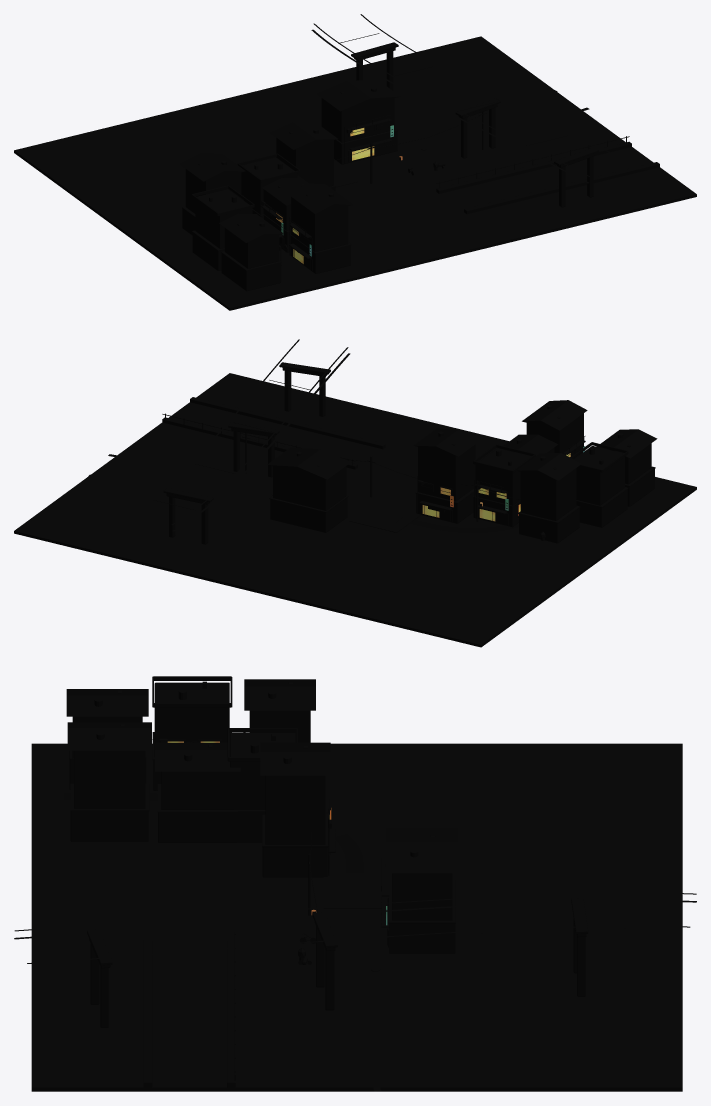
Rendered from hinode-slice-environment.glb.
3 renders of one model, top to bottom at view 1: azimuth 30°, elevation 25°; view 2: azimuth 150°, elevation 25°; view 3: azimuth 270°, elevation 25°, orthographic. The views are drawn at different scales.
Parts seen in each view (by area): view 1: ENV_HinodeSlice_Baked; view 2: ENV_HinodeSlice_Baked; view 3: ENV_HinodeSlice_Baked.
Boxes of the visible parts, bbox=[...] form: ENV_HinodeSlice_Baked: bbox=[14, 14, 696, 310]; ENV_HinodeSlice_Baked: bbox=[14, 339, 696, 647]; ENV_HinodeSlice_Baked: bbox=[14, 676, 696, 1091].
Size of the model in its own units: 76.03 by 11.83 by 62.96.
Materials: 1 (1 with a texture image).
